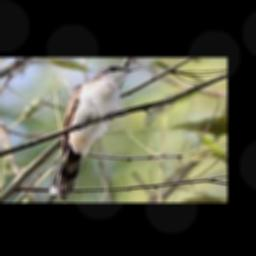Cuckoo: (48, 65, 141, 203)
